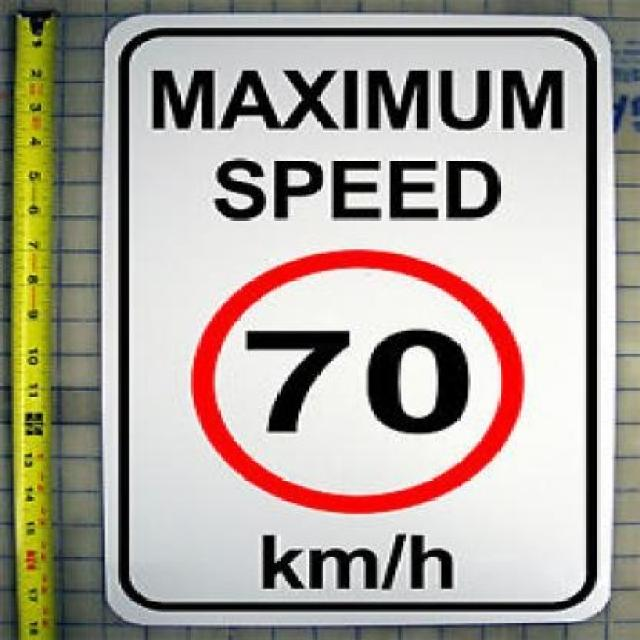forb_speed_over_70: (188, 242, 522, 520)
